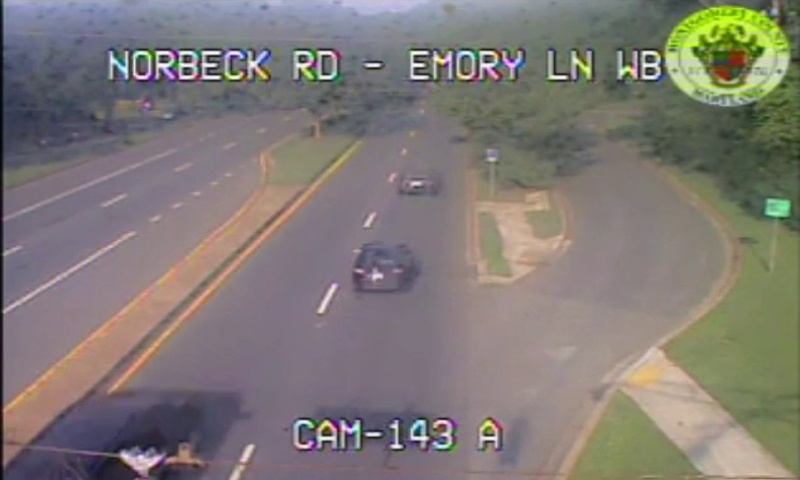car: (350, 243, 407, 288), (400, 170, 432, 195)
